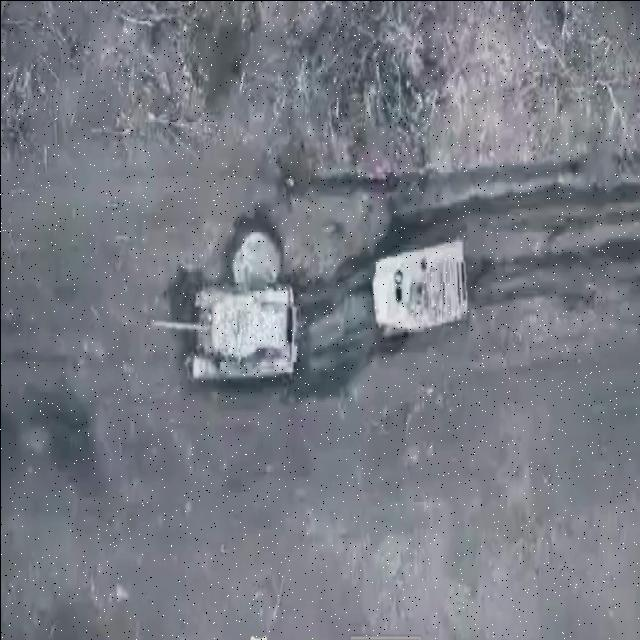APC-IFV: (371, 236, 471, 338)
TANK: (151, 282, 297, 382)
